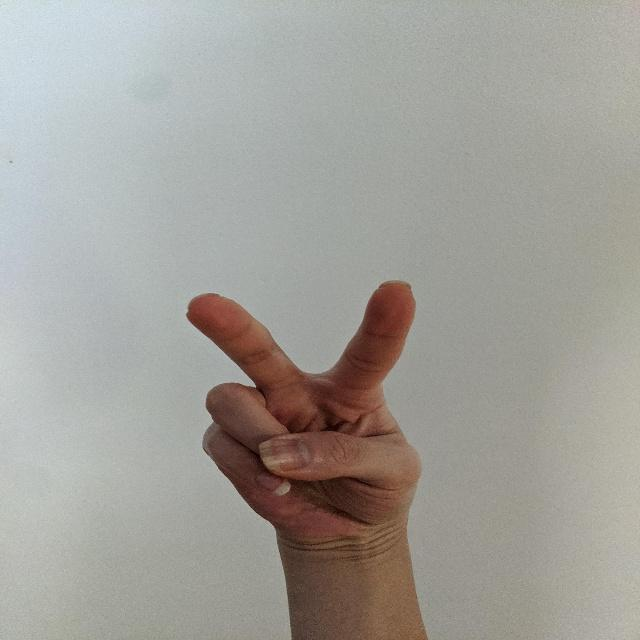V: (176, 274, 442, 540)
